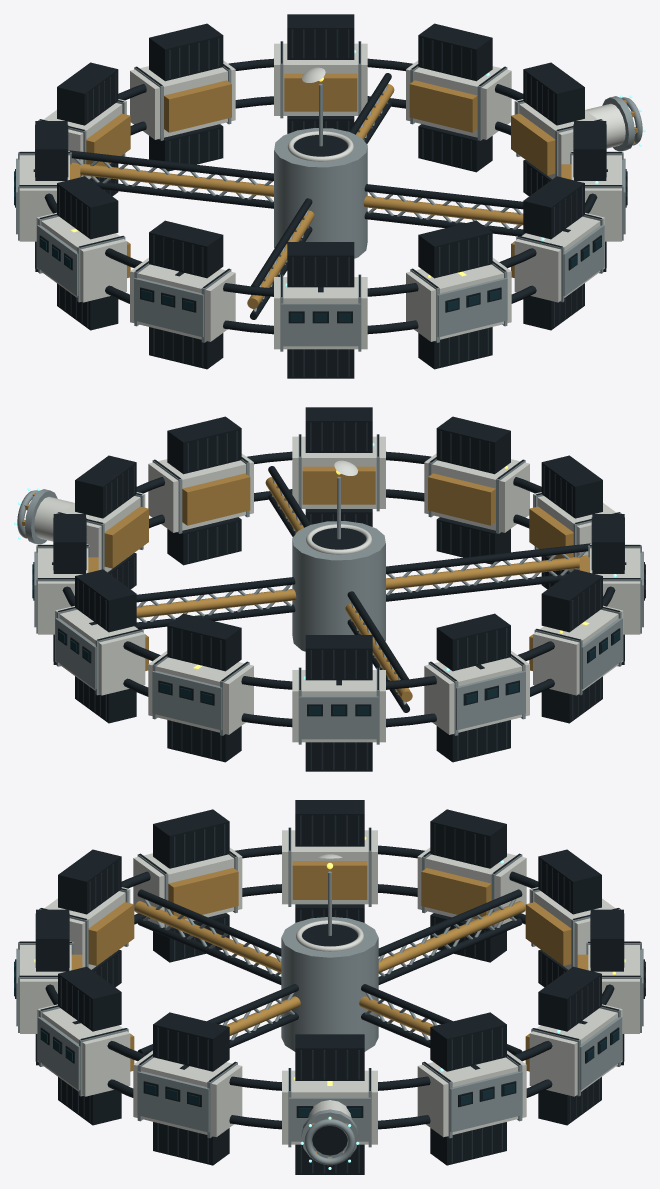
The model's file is aether-relay-station.glb.
3 views of the same model, one above another, from view 1: azimuth 30°, elevation 25°; view 2: azimuth 150°, elevation 25°; view 3: azimuth 270°, elevation 25° (orthographic). The views are drawn at different scales.
Visible parts, largest first — view 1: Radiator_frame (×21), Pressure_vessel (×12), Outer_thermal_panel (×5), Equipment_bay (×5), Central_hub, Longeron (×6), Utility_conduit (×4), Ring_truss_0.46, Ring_truss_-0.46, Docking_tunnel, Axial_hatch, Axial_hatch_rim (+1 smaller); view 2: Radiator_frame (×21), Pressure_vessel (×12), Outer_thermal_panel (×5), Equipment_bay (×5), Central_hub, Longeron (×6), Utility_conduit (×4), Ring_truss_0.46, Ring_truss_-0.46, Docking_tunnel, Axial_hatch, Axial_hatch_rim (+1 smaller); view 3: Radiator_frame (×22), Pressure_vessel (×12), Equipment_bay (×5), Outer_thermal_panel (×5), Central_hub, Longeron (×8), Utility_conduit (×4), Ring_truss_0.46, Ring_truss_-0.46, Soft_capture_ring, Axial_hatch, Recessed_hatch (+2 smaller).
Part boxes in pixels (x1,y1,x2,y2): Radiator_frame (×21): (35,14,606,378); Pressure_vessel (×12): (19,43,621,349); Outer_thermal_panel (×5): (37,225,604,346); Equipment_bay (×5): (86,73,555,175); Central_hub: (274,128,367,258); Longeron (×6): (69,73,525,286); Utility_conduit (×4): (71,84,523,308); Ring_truss_0.46: (44,58,597,296); Ring_truss_-0.46: (105,96,536,334); Docking_tunnel: (585,103,625,148); Axial_hatch: (293,135,347,156); Axial_hatch_rim: (287,131,353,161); Radiator_frame (×21): (53,407,624,771); Pressure_vessel (×12): (38,436,640,742); Outer_thermal_panel (×5): (55,618,622,739); Equipment_bay (×5): (104,466,573,568); Central_hub: (292,521,385,651); Longeron (×6): (134,466,590,679); Utility_conduit (×4): (136,477,588,701); Ring_truss_0.46: (62,451,615,689); Ring_truss_-0.46: (123,489,554,727); Docking_tunnel: (34,496,74,541); Axial_hatch: (312,528,366,549); Axial_hatch_rim: (306,524,372,554); Radiator_frame (×22): (36,800,623,1174); Pressure_vessel (×12): (20,830,639,1144); Equipment_bay (×5): (88,861,571,965); Outer_thermal_panel (×5): (37,1017,622,1141); Central_hub: (281,917,378,1051); Longeron (×8): (137,889,522,1054); Utility_conduit (×4): (134,901,525,1035); Ring_truss_0.46: (45,845,614,1090); Ring_truss_-0.46: (107,884,552,1129); Soft_capture_ring: (304,1119,355,1165); Axial_hatch: (302,924,357,946); Recessed_hatch: (312,1126,347,1155).
Bounding box in the file's own units: 14.85 × 4.63 × 13.68.
